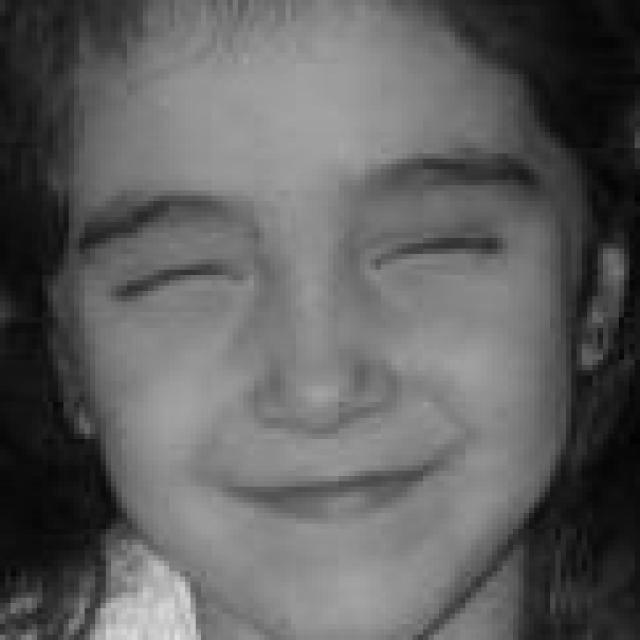real: (41, 6, 579, 638), (124, 195, 506, 307)
